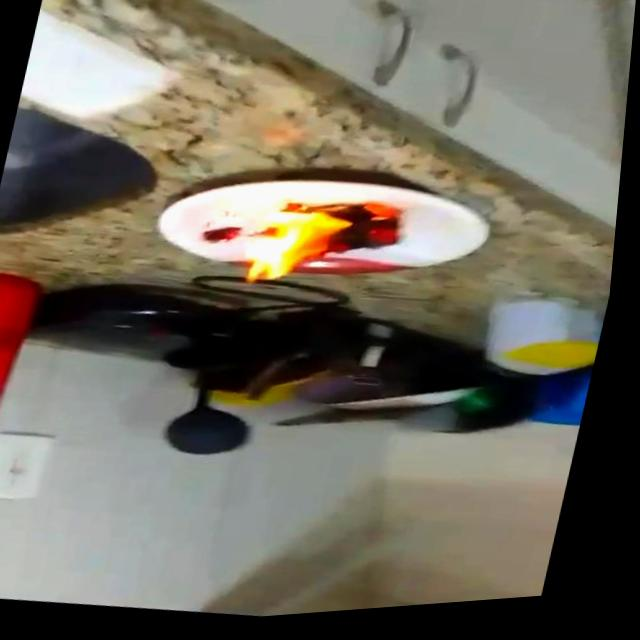Fire: (243, 199, 354, 300)
